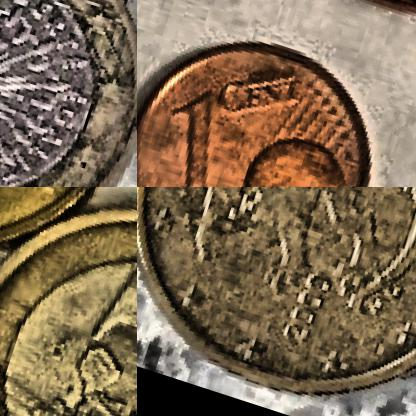coin: (137, 187, 415, 415), (137, 9, 403, 186), (0, 187, 136, 415), (0, 0, 136, 186)
